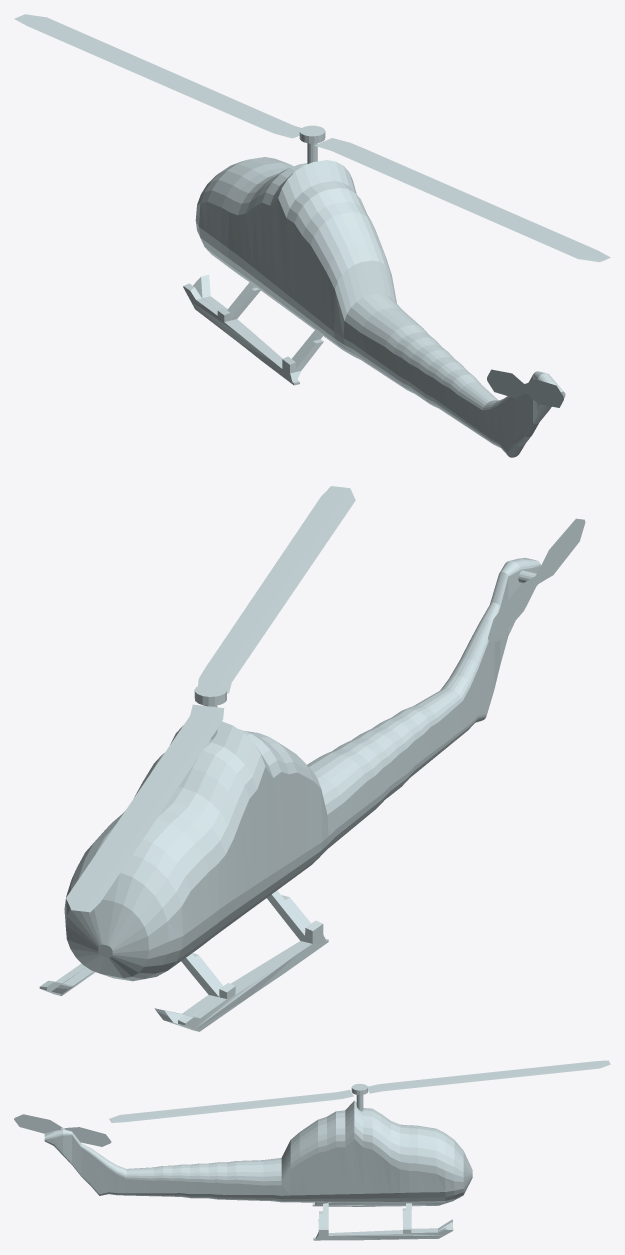
The picture shows the model from 3 angles, top to bottom: view 1: azimuth 30°, elevation 25°; view 2: azimuth 150°, elevation 25°; view 3: azimuth 270°, elevation 25°; orthographic projection. The views are drawn at different scales.
Parts seen in each view (by area): view 1: Aircraft visual hull, Rotor 1790542596889-1pe3a7kbdus, Rotor 1790543211823-cbibqzaqsp; view 2: Aircraft visual hull, Rotor 1790542596889-1pe3a7kbdus, Rotor 1790543211823-cbibqzaqsp; view 3: Aircraft visual hull, Rotor 1790542596889-1pe3a7kbdus, Rotor 1790543211823-cbibqzaqsp.
Boxes of the visible parts, x1,y1,x2,y2 form: Aircraft visual hull: (183,157,565,457); Rotor 1790542596889-1pe3a7kbdus: (14,14,610,262); Rotor 1790543211823-cbibqzaqsp: (487,369,563,407); Aircraft visual hull: (39,557,540,1031); Rotor 1790542596889-1pe3a7kbdus: (66,486,355,912); Rotor 1790543211823-cbibqzaqsp: (488,518,585,641); Aircraft visual hull: (44,1100,472,1240); Rotor 1790542596889-1pe3a7kbdus: (109,1060,610,1122); Rotor 1790543211823-cbibqzaqsp: (14,1114,111,1146).
Bounding box in the file's own units: 2.95 × 2.96 × 11.89.
